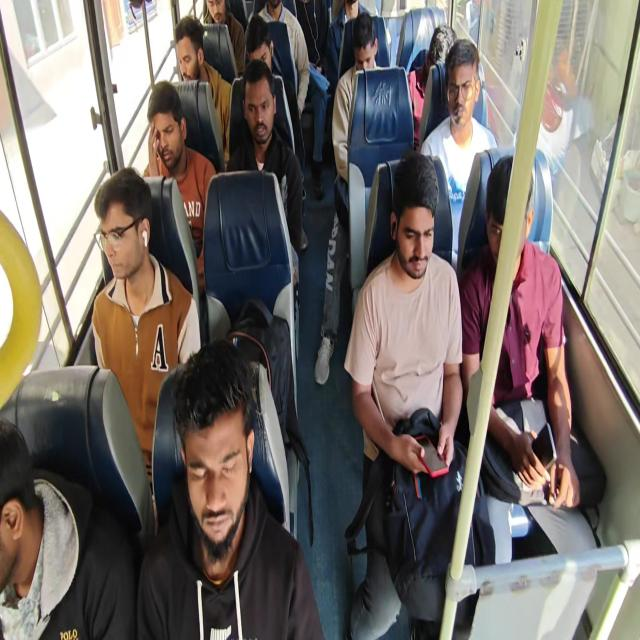person: (171, 345, 265, 579), (0, 415, 64, 604), (377, 145, 446, 288), (90, 171, 154, 288), (483, 151, 534, 279), (240, 61, 294, 150), (442, 42, 482, 134), (147, 86, 187, 178), (345, 9, 384, 78), (424, 24, 459, 77), (244, 12, 275, 64), (178, 17, 203, 79), (202, 0, 226, 29)
